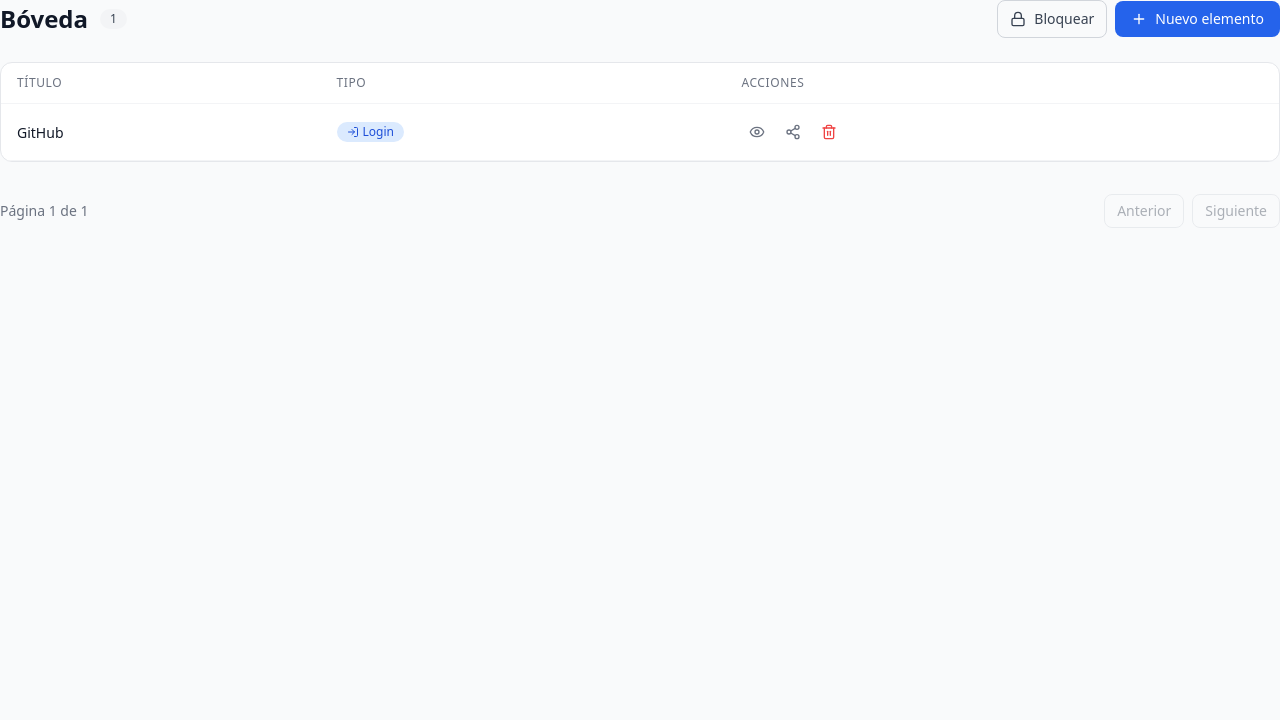
VaultPage › opens the share modal when clicking the share button on an own item
This screenshot has width=1280, height=720.
Click the button named "Compartir".
click(793, 132)  # box 777,116 -> 809,148
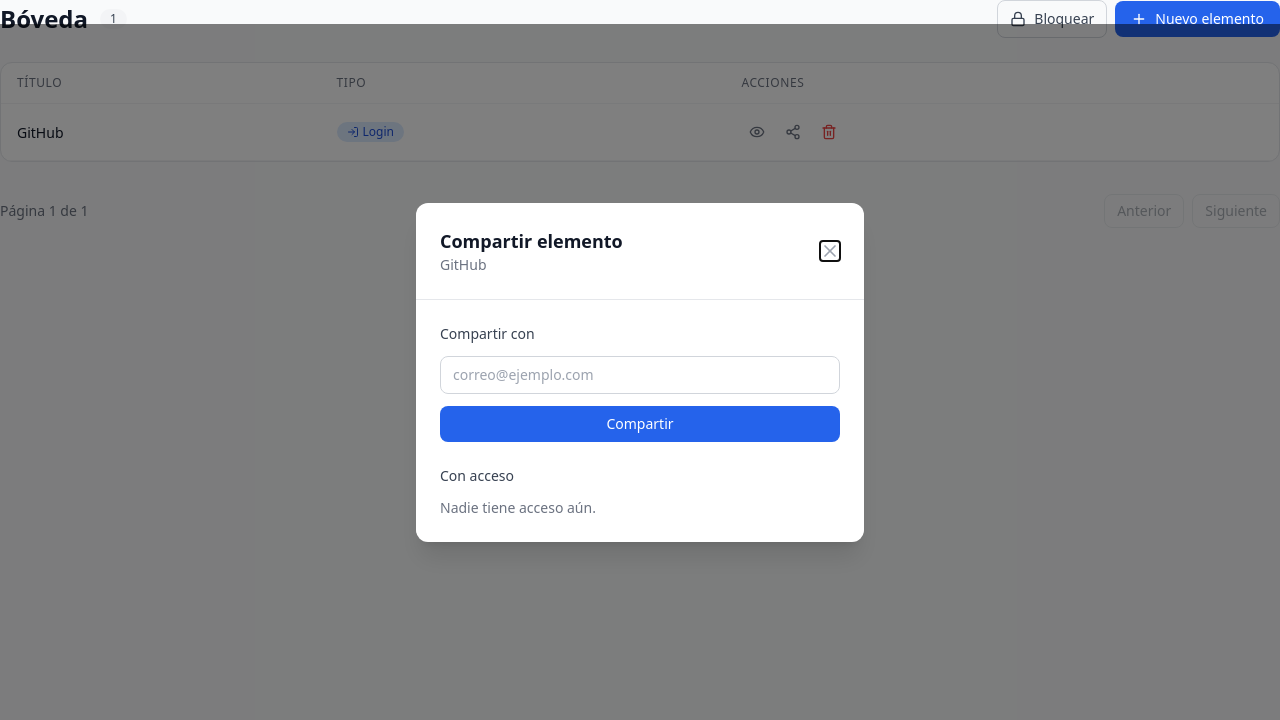
expect the heading "Compartir elemento" is shown: met, box 440,226 -> 623,254
